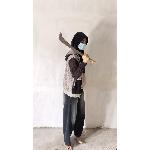Golok: (54, 30, 100, 68)
